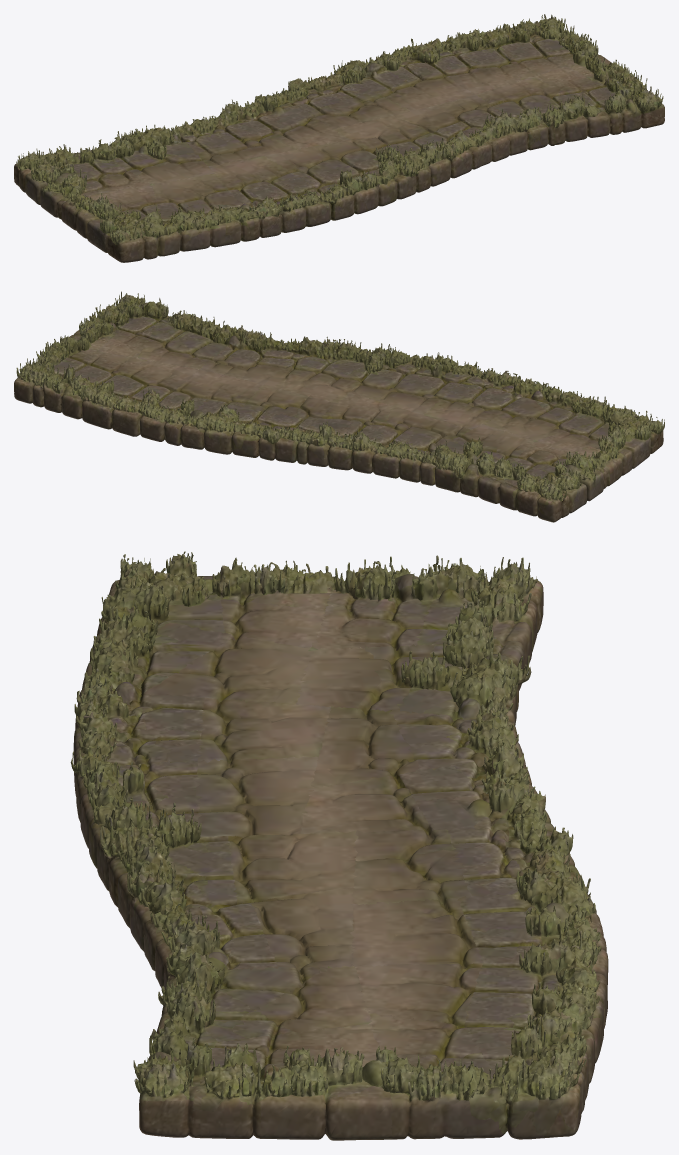
File: Meshy_AI_road_curve_right_gent_0823031748_image-to-3d-texture.glb
3 views of the same model, one above another, from view 1: azimuth 30°, elevation 25°; view 2: azimuth 150°, elevation 25°; view 3: azimuth 270°, elevation 25° (orthographic). The views are drawn at different scales.
Parts seen in each view (by area): view 1: mesh_node; view 2: mesh_node; view 3: mesh_node.
Part boxes in pixels (x1=…): mesh_node: x1=14, y1=14, x2=664, y2=262; mesh_node: x1=14, y1=291, x2=664, y2=522; mesh_node: x1=70, y1=551, x2=608, y2=1140.
Bounding box in the file's own units: 1.9 × 0.1328 × 0.8148.
1 material, 1 textured.
